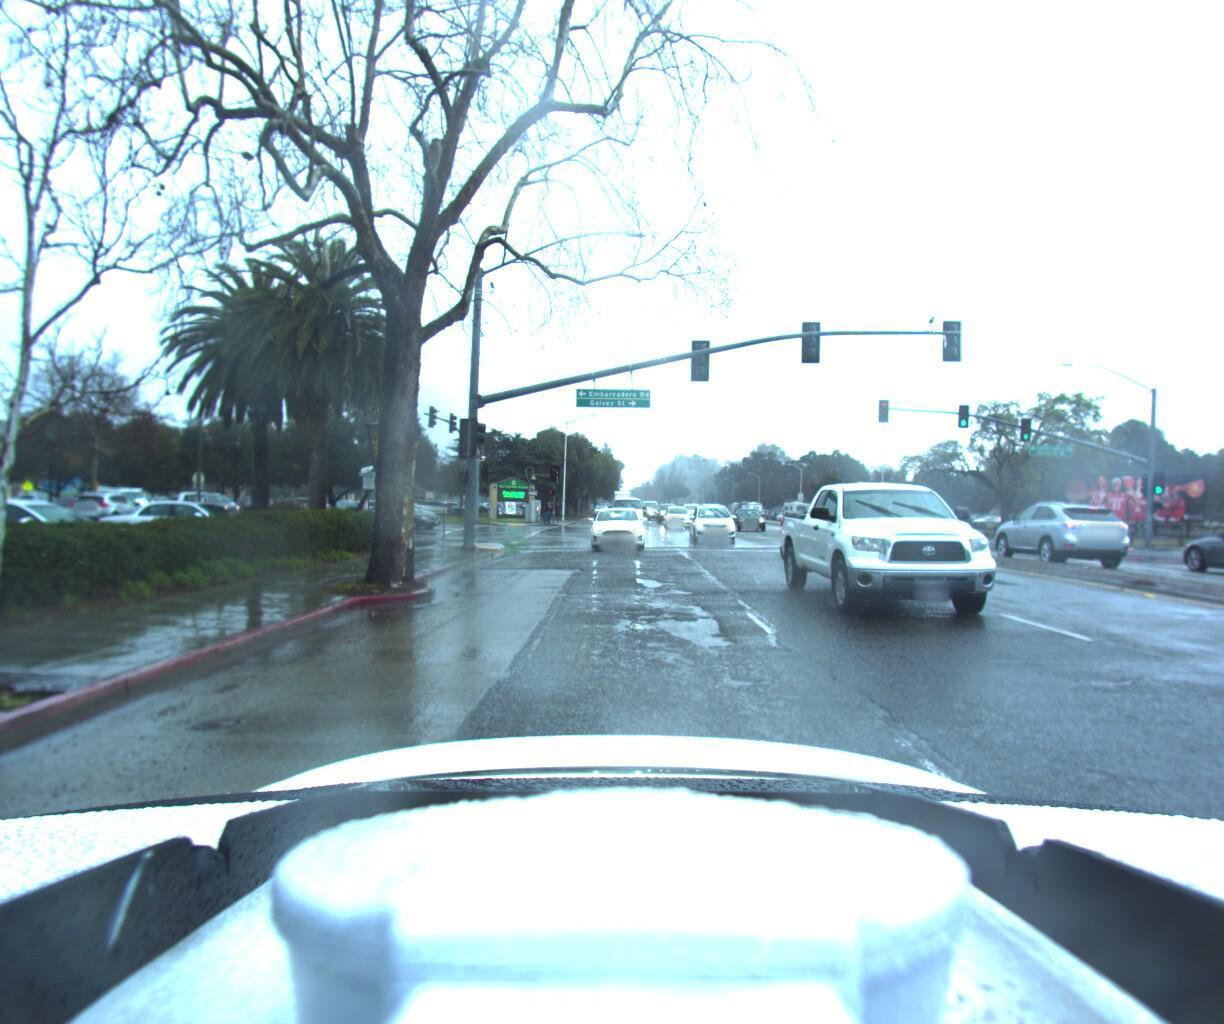car: (782, 467, 1061, 640), (987, 496, 1145, 571), (0, 493, 124, 578), (85, 498, 241, 555), (1175, 513, 1224, 589), (62, 489, 150, 527), (355, 497, 446, 532), (590, 503, 648, 553), (687, 502, 742, 544), (89, 487, 155, 515), (173, 493, 246, 518), (734, 507, 778, 535), (606, 497, 642, 530), (661, 506, 692, 530), (674, 503, 698, 522)
